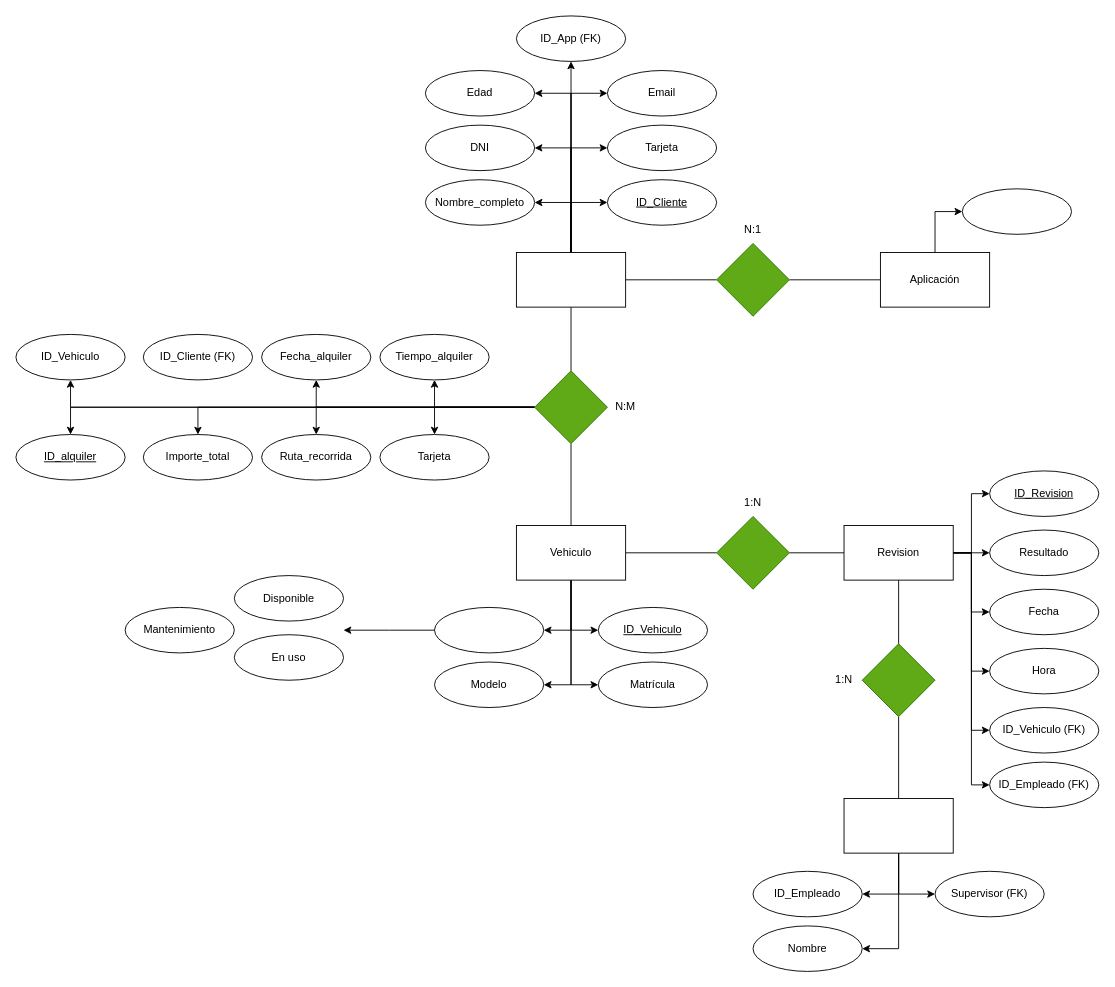
Image size: 1115x987. Some labels were removed from this diagram. Here are the shapes that lost their labels. From the top down, the box of each, then its label:
(961, 188, 1072, 234): ID_App
(516, 252, 626, 307): Cliente
(716, 243, 789, 316): se registra
(534, 370, 607, 444): alquila
(716, 516, 789, 589): pasa
(434, 607, 544, 653): Estado_actual
(861, 643, 935, 717): realiza
(843, 798, 953, 853): Empleado
